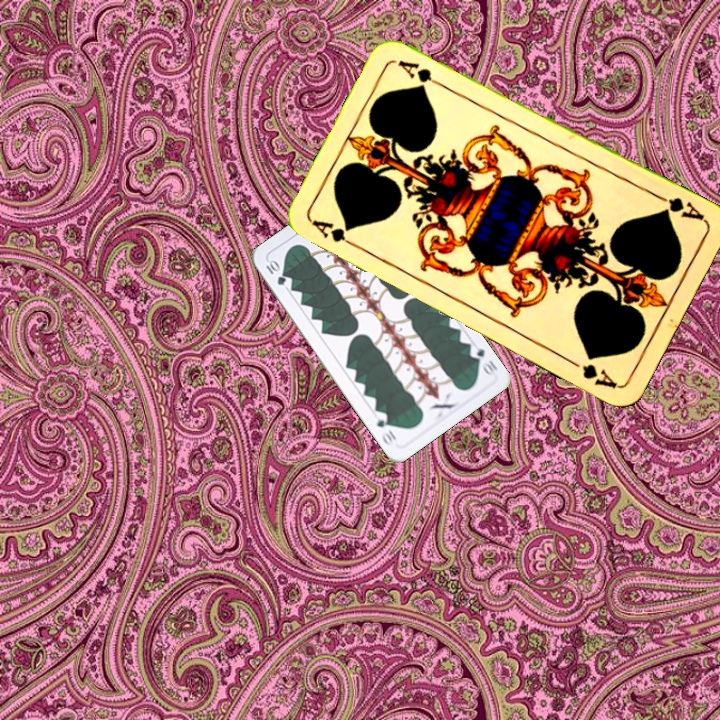G10: (465, 341, 500, 378), (262, 256, 289, 288)
GA: (308, 216, 363, 252), (650, 190, 707, 223)
